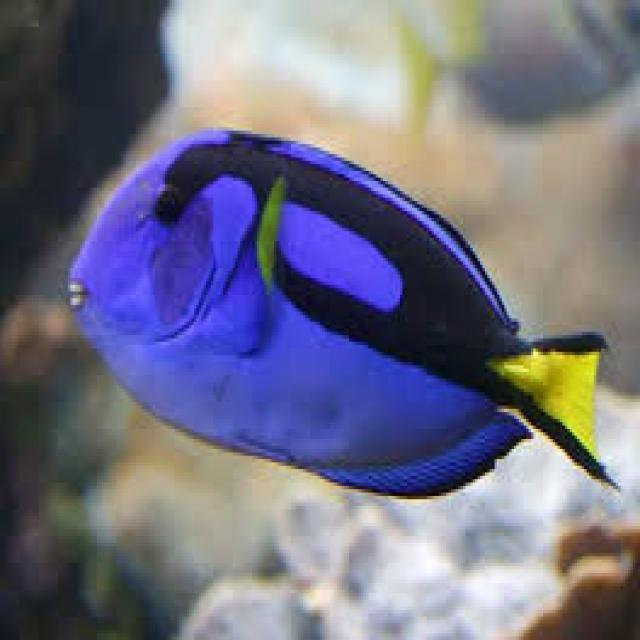TangFish: (58, 122, 616, 508)
